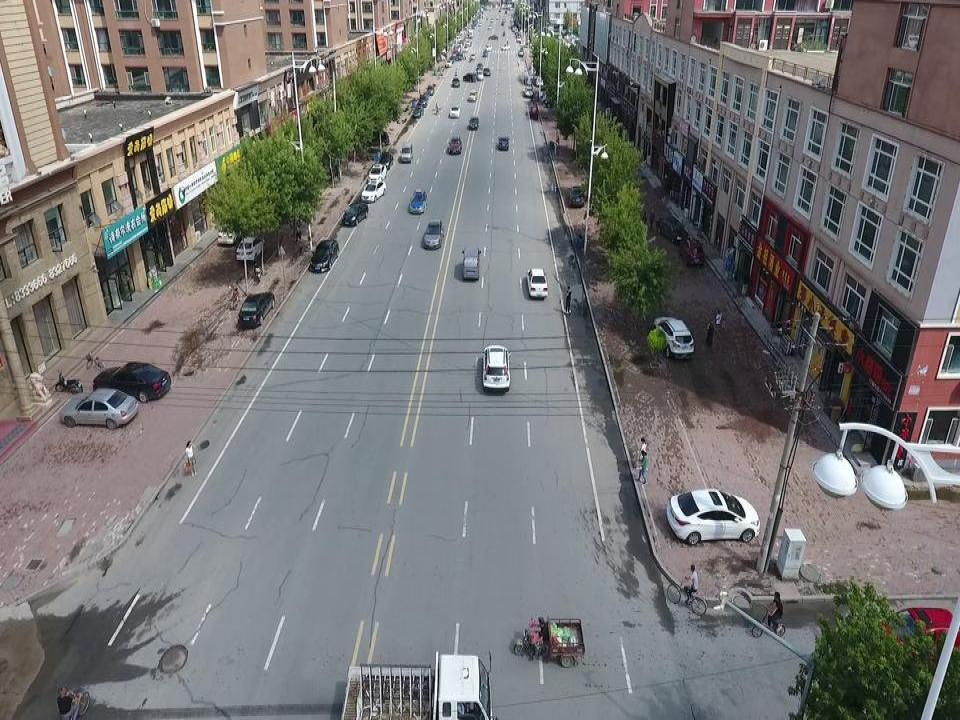car: (862, 606, 958, 673), (666, 488, 762, 543), (91, 360, 174, 403), (64, 387, 138, 428), (650, 312, 694, 360), (482, 343, 513, 389), (669, 579, 706, 616), (239, 288, 273, 327), (310, 237, 340, 272), (658, 214, 690, 242), (524, 267, 549, 301), (236, 234, 266, 262), (217, 215, 244, 244), (423, 217, 445, 248), (342, 201, 367, 228), (360, 178, 386, 202), (682, 239, 702, 268), (366, 160, 388, 185), (362, 129, 390, 147), (409, 188, 427, 213), (569, 184, 586, 207), (564, 283, 572, 314), (380, 149, 392, 168), (497, 135, 510, 152), (528, 104, 540, 121), (449, 136, 461, 152), (468, 116, 480, 129), (412, 104, 424, 117), (418, 93, 429, 107), (449, 104, 460, 117), (467, 88, 477, 100), (463, 72, 476, 81), (524, 84, 533, 96), (444, 57, 453, 67), (482, 65, 490, 75), (535, 76, 543, 85), (475, 71, 483, 80), (452, 34, 461, 42), (427, 84, 433, 95), (482, 43, 492, 49), (502, 43, 510, 50), (453, 76, 458, 87), (476, 63, 483, 70), (469, 53, 476, 60), (487, 34, 498, 38), (517, 49, 524, 55), (462, 45, 469, 51), (482, 48, 487, 56), (517, 33, 521, 43), (454, 44, 459, 51), (458, 39, 463, 45), (465, 39, 470, 44)
truck: (452, 51, 462, 61), (467, 31, 474, 37)
van: (460, 245, 482, 280), (398, 143, 414, 164)
